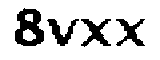8: (10, 5, 47, 53)
v: (45, 13, 79, 45)
x: (114, 16, 146, 51), (81, 16, 112, 50)
